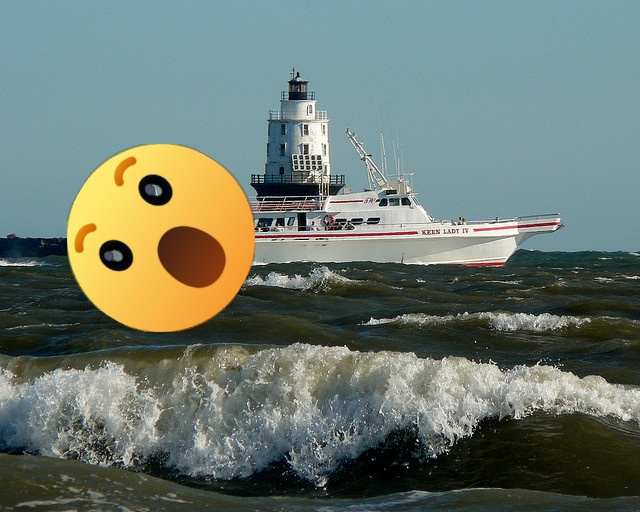wow: (67, 144, 255, 332)
